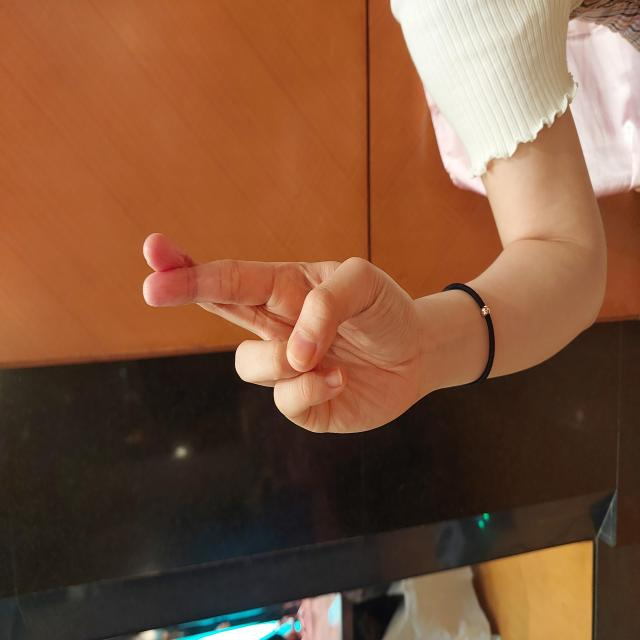R: (202, 139, 408, 423)
